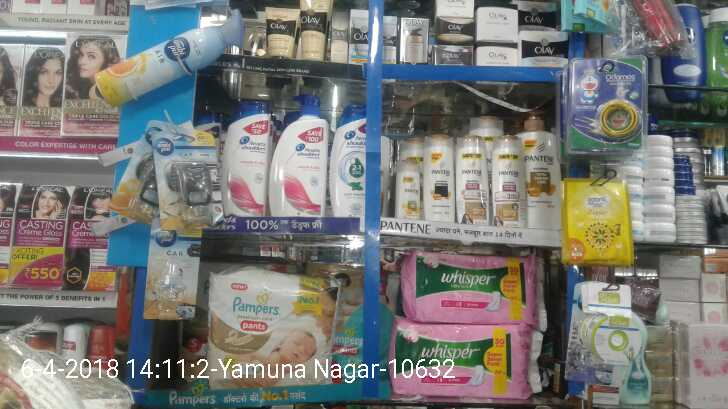ambipureVesus: (96, 7, 246, 106), (156, 135, 222, 234), (141, 226, 202, 324), (115, 116, 152, 221)
